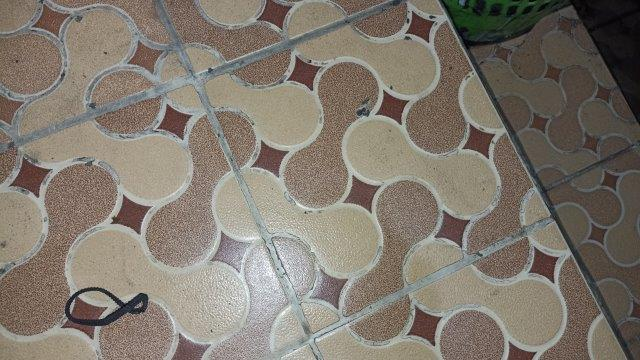karet: (66, 287, 148, 326)
